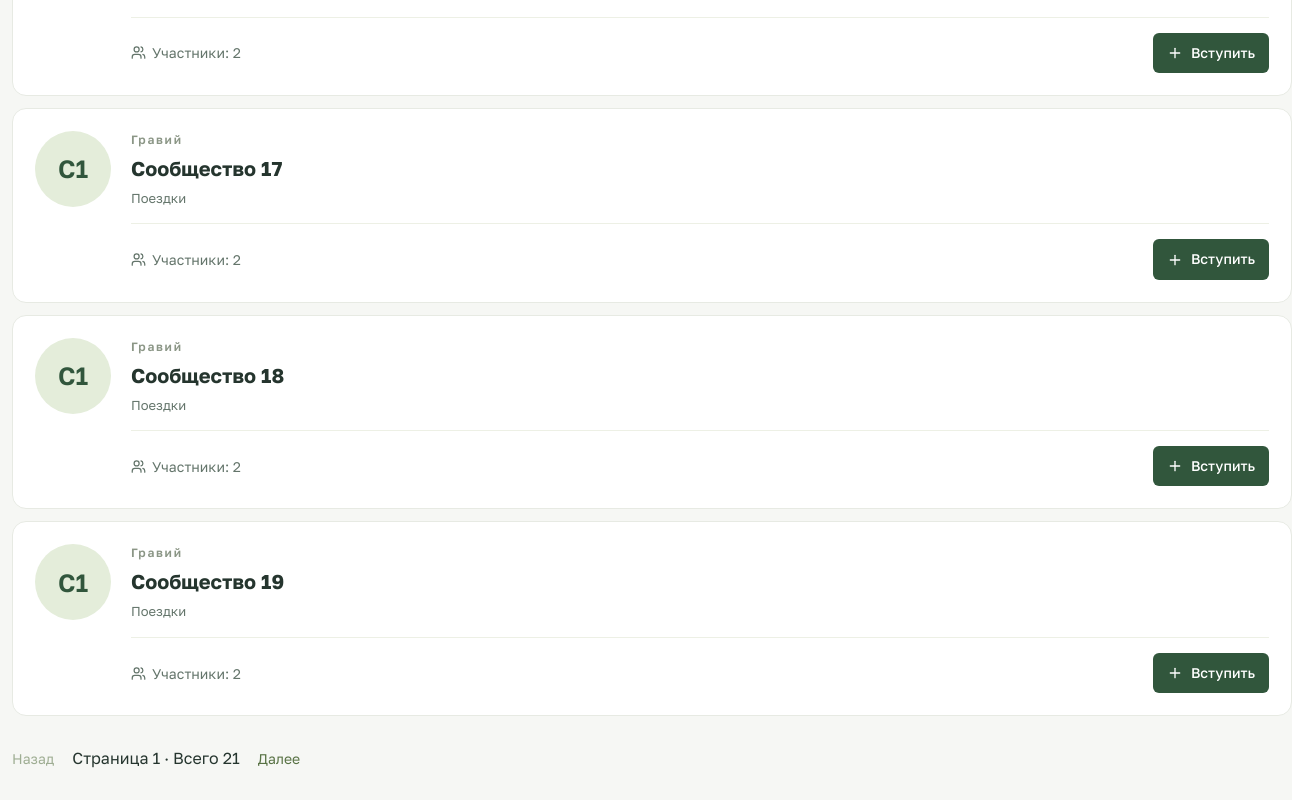
it: the directory pages on the server, preserves the page after joining, and resets it for a filter
Later steps or results of the test are not shown.
(page scrolled)
Click the button "Далее": click(279, 758) [258,740,300,776]
(page scrolled)
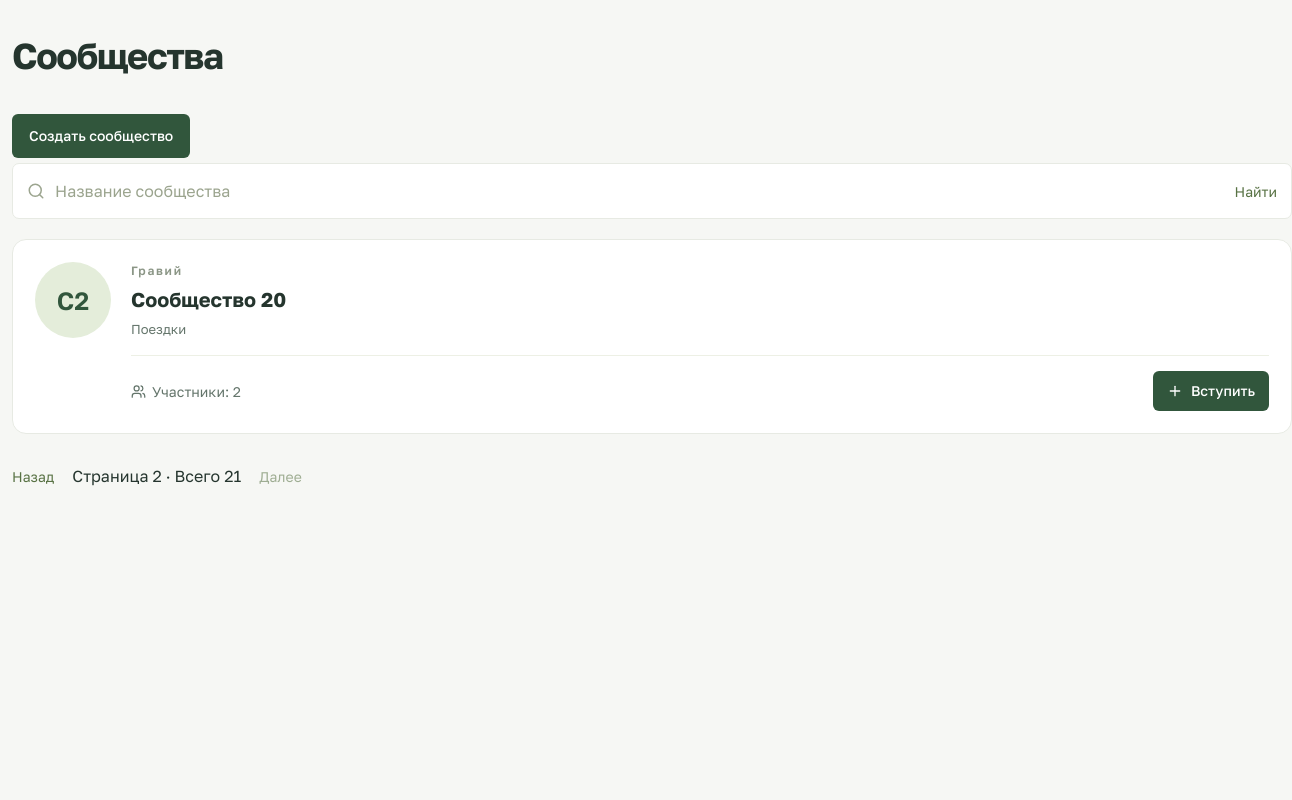
Expected: the heading "Сообщество 20" is shown, [131,288,286,312]
